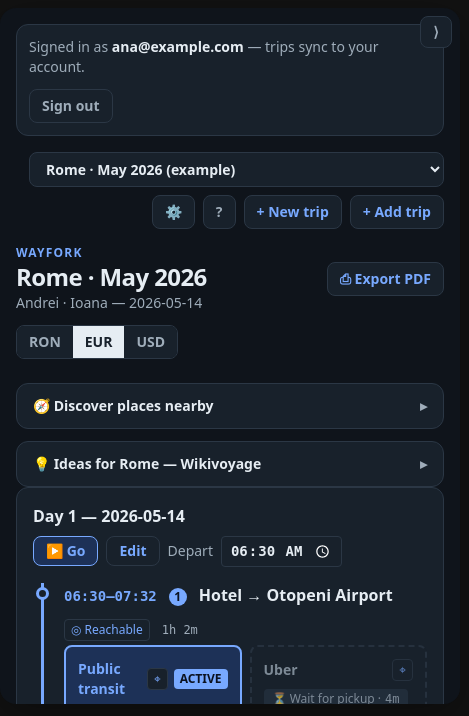
it: WayforkApp sync-poll guards (v0.26 regressions) › ignores an empty poll result while trips are held (no picker snap-back)
Select "Shared trip (uploaded)" in the dropdown named "Shared trip": x=236, y=170 [29, 152, 444, 187]
Wait 15500 ms
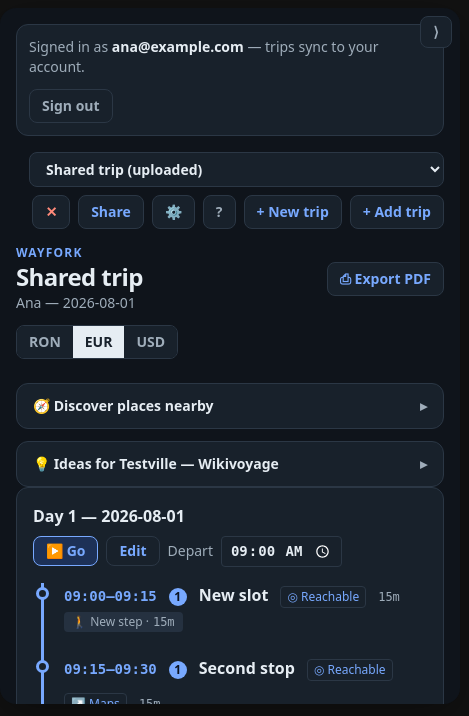
Now the text "Second stop" is shown, box [199, 656, 295, 680]
